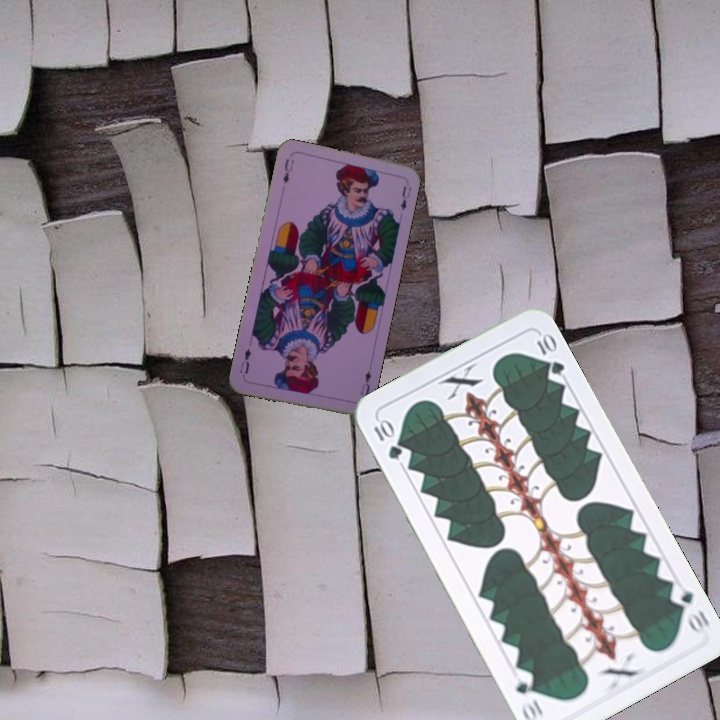EU: (356, 367, 374, 398), (279, 155, 297, 186)
G10: (666, 580, 712, 638), (369, 415, 405, 463)
